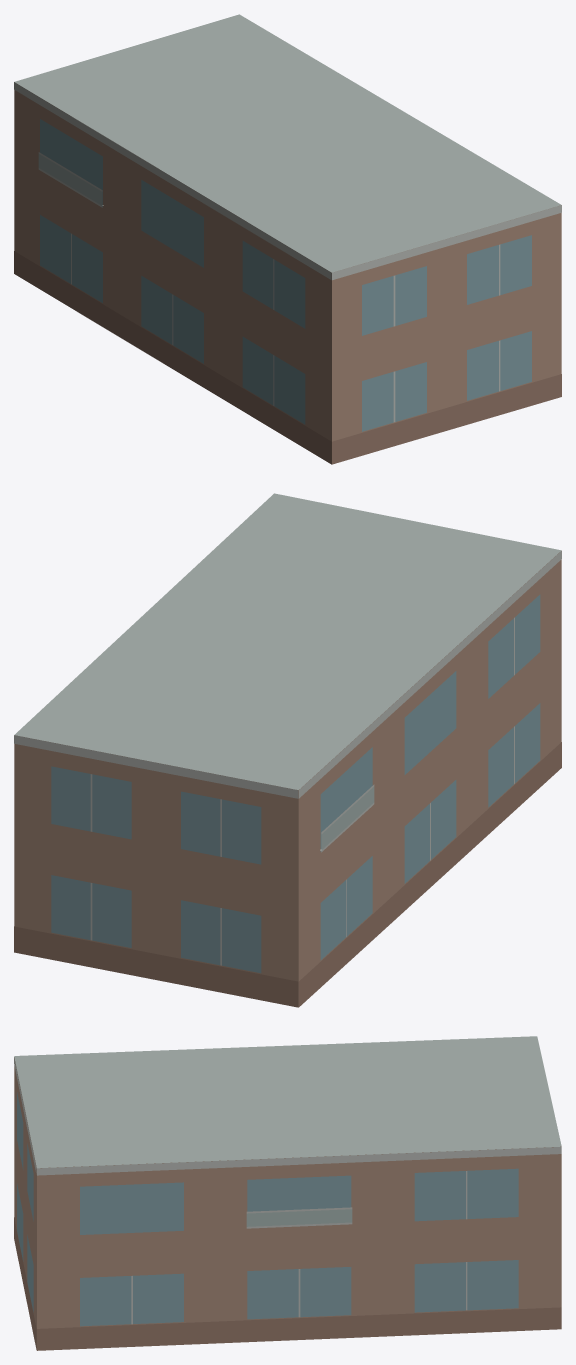
File: survey-upis-33027549.glb
3 views of the same model, one above another, from view 1: azimuth 30°, elevation 25°; view 2: azimuth 150°, elevation 25°; view 3: azimuth 270°, elevation 25° (orthographic). The views are drawn at different scales.
Visible parts, largest first — view 1: survey-upis-33027549.tmp; view 2: survey-upis-33027549.tmp; view 3: survey-upis-33027549.tmp.
Boxes of the visible parts, x1,y1,x2,y2 form: survey-upis-33027549.tmp: (14, 14, 561, 464); survey-upis-33027549.tmp: (14, 493, 561, 1007); survey-upis-33027549.tmp: (14, 1036, 561, 1350).
Bounding box in the file's own units: 9.48 × 6.1 × 16.6.
